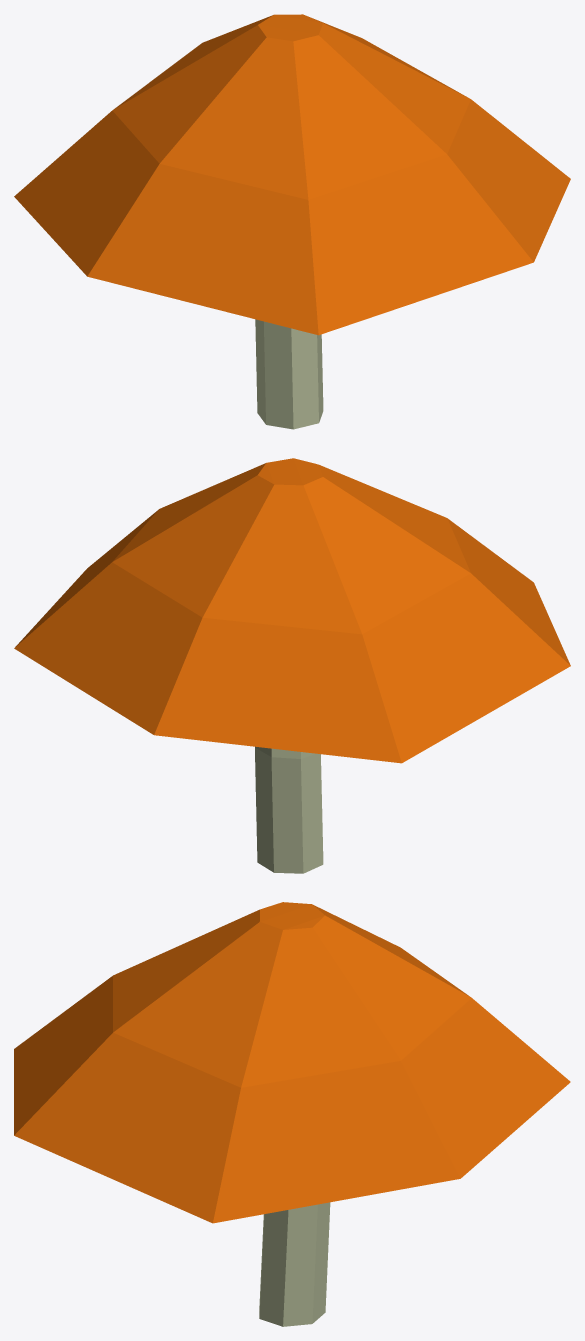
The picture shows the model from 3 angles, top to bottom: view 1: azimuth 30°, elevation 25°; view 2: azimuth 150°, elevation 25°; view 3: azimuth 270°, elevation 25°; orthographic projection. The views are drawn at different scales.
Visible parts, largest first — view 1: Mushroom1_Cylinder.020; view 2: Mushroom1_Cylinder.020; view 3: Mushroom1_Cylinder.020.
Part boxes in pixels (x1,y1,x2,y2): Mushroom1_Cylinder.020: [14, 14, 570, 429]; Mushroom1_Cylinder.020: [14, 458, 570, 873]; Mushroom1_Cylinder.020: [14, 902, 570, 1326].
Bounding box in the file's own units: 3.7 × 2.83 × 3.6.
Materials: 1 (1 with a texture image).
